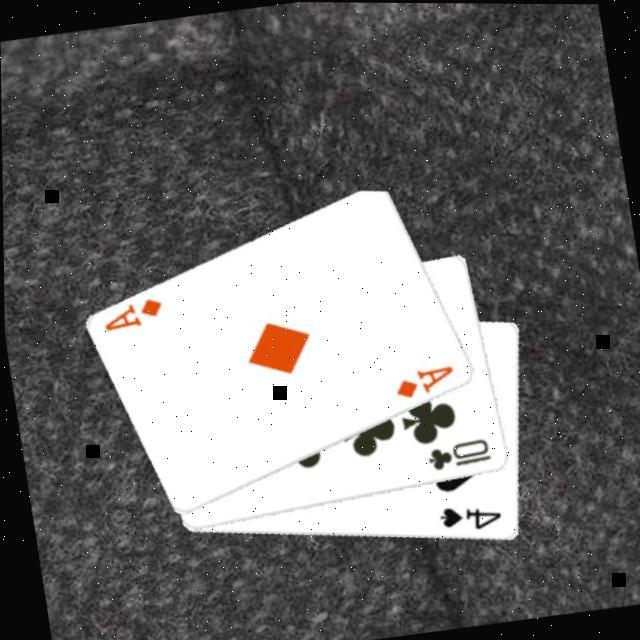10C: (424, 436, 496, 477)
4S: (435, 498, 507, 540)
AD: (391, 362, 462, 405), (98, 295, 168, 338)
